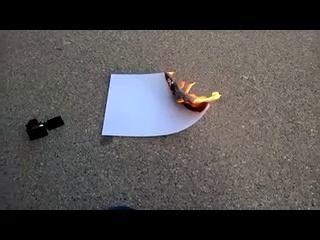Fire: (164, 71, 227, 112)
